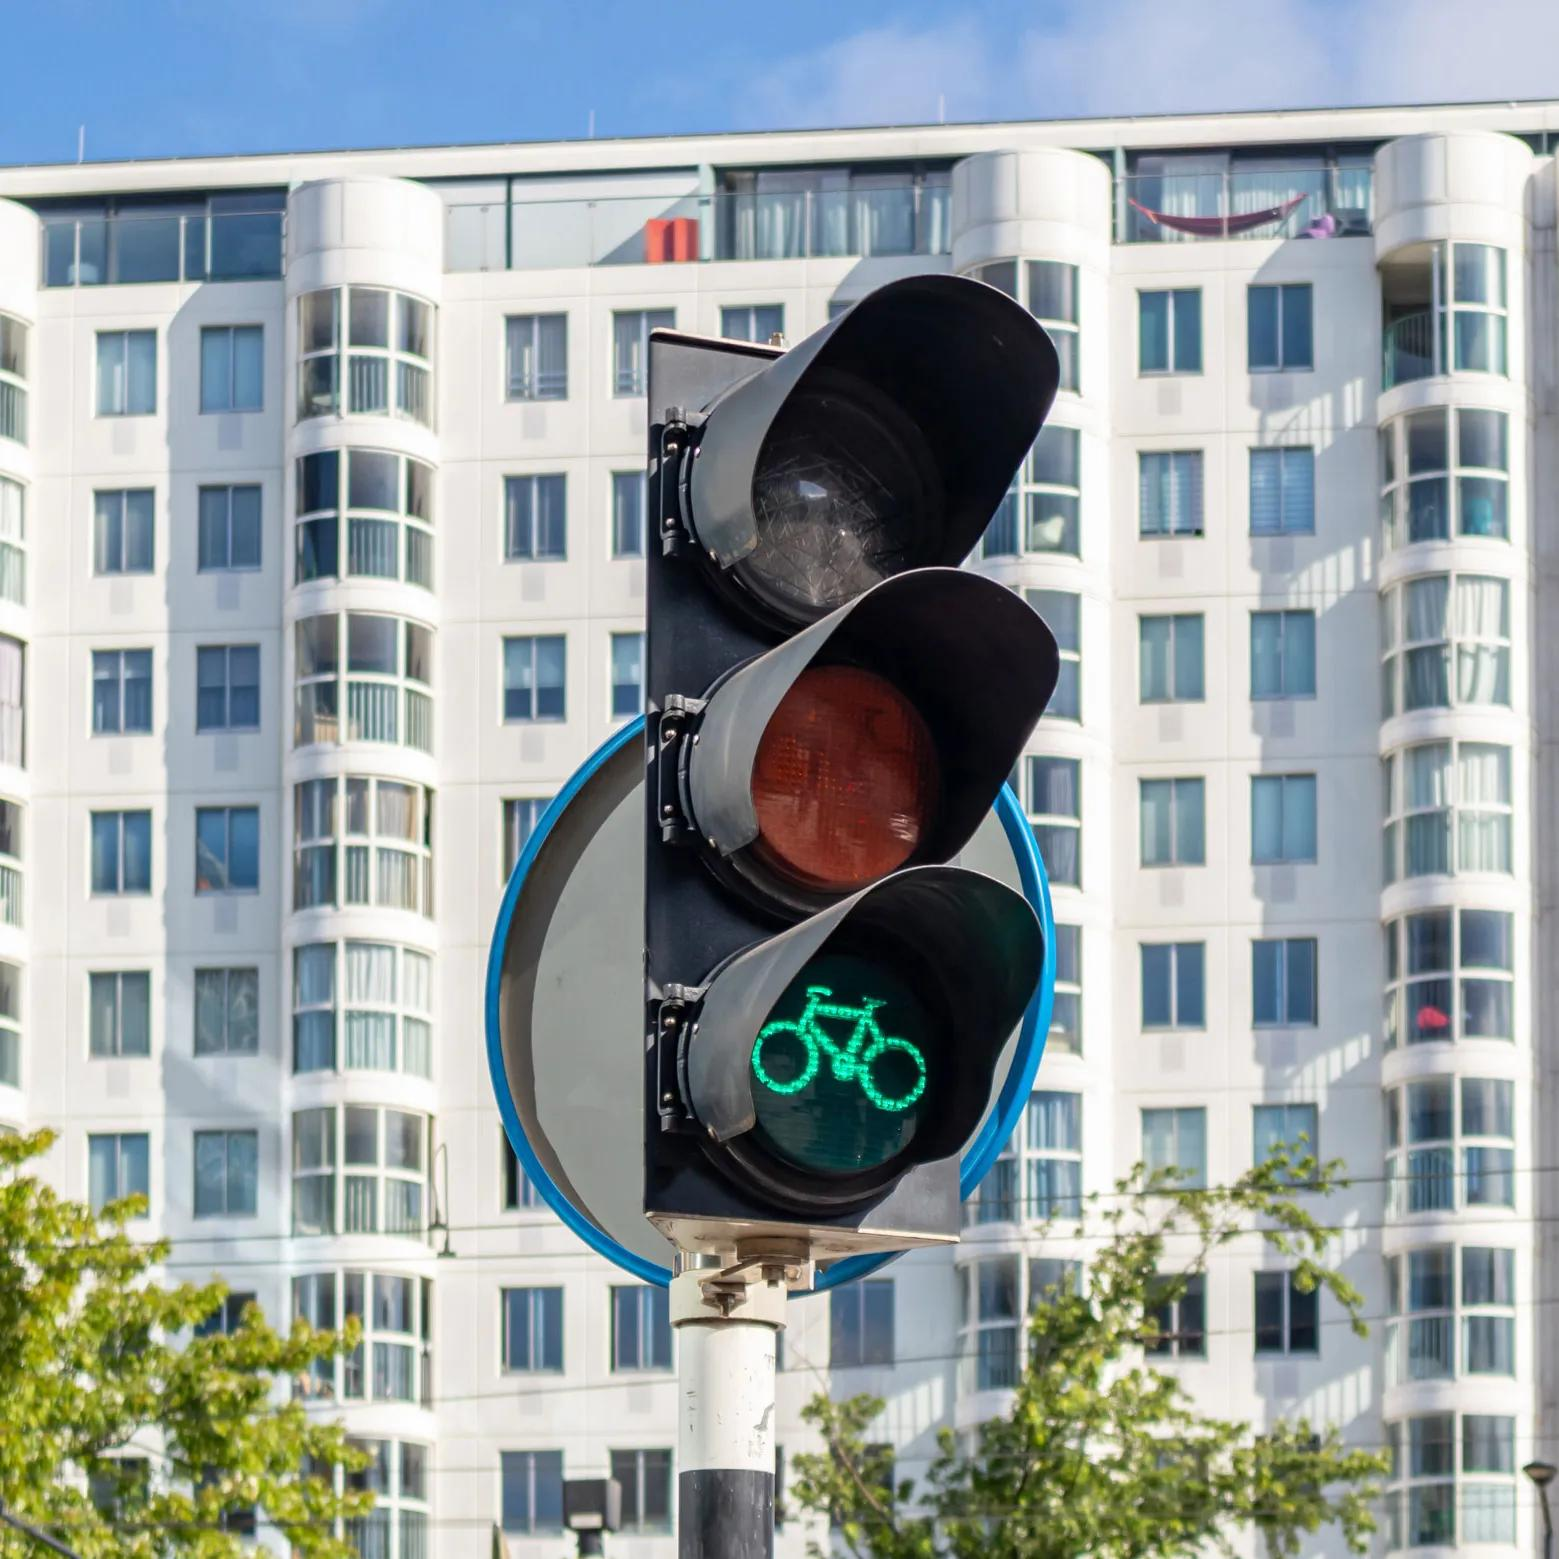traffic light: (397, 293, 1176, 1331)
